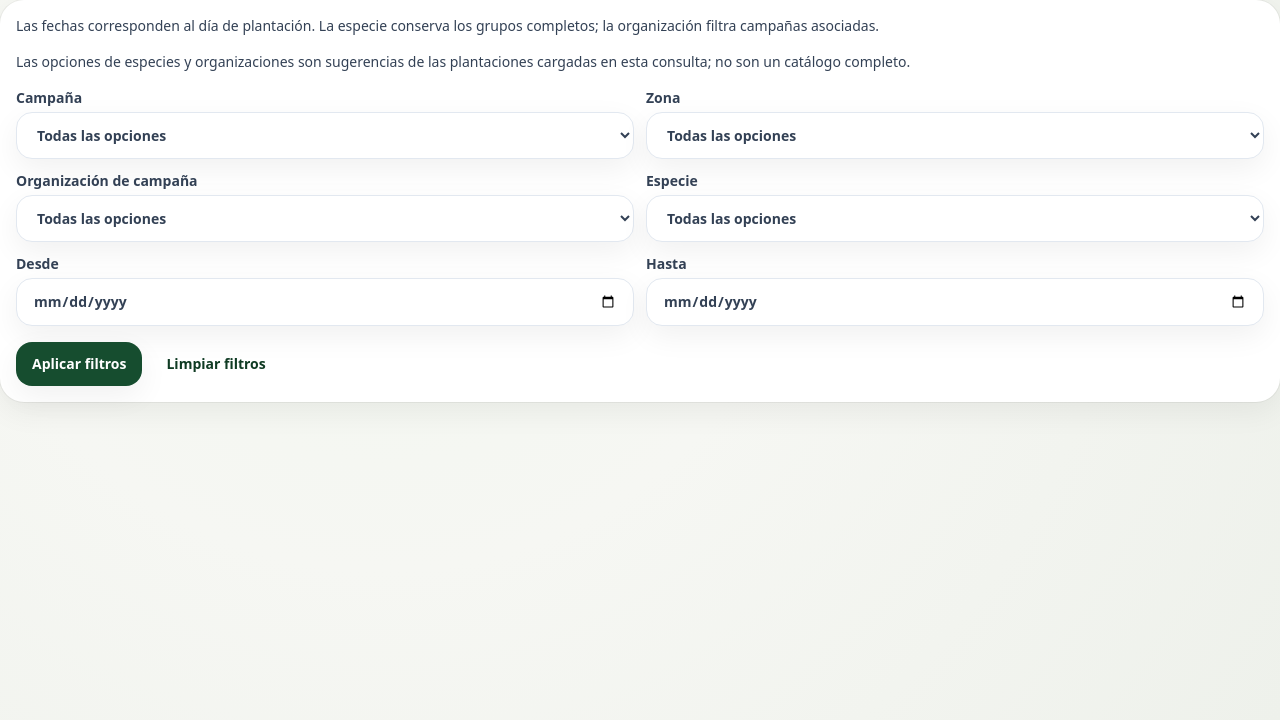
Scenario: filtros públicos por nombre › rechaza un intervalo invertido en español, enfoca el error y conserva la propuesta al corregirlo
Select "Queñua" in the dropdown labelled "Especie". click: (955, 218)
box: 646,195 -> 1264,242
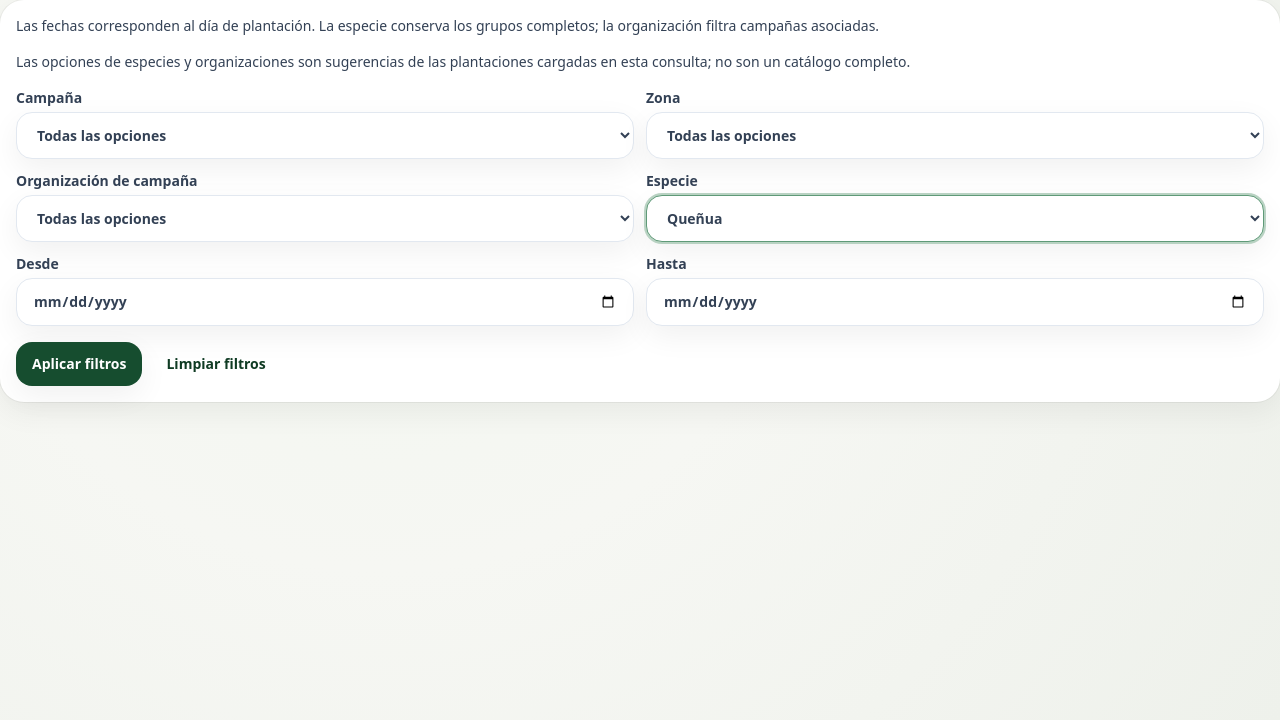
Type "2026-10-16" into the date field labelled "Desde". click: (325, 302)
box: 16,278 -> 634,326
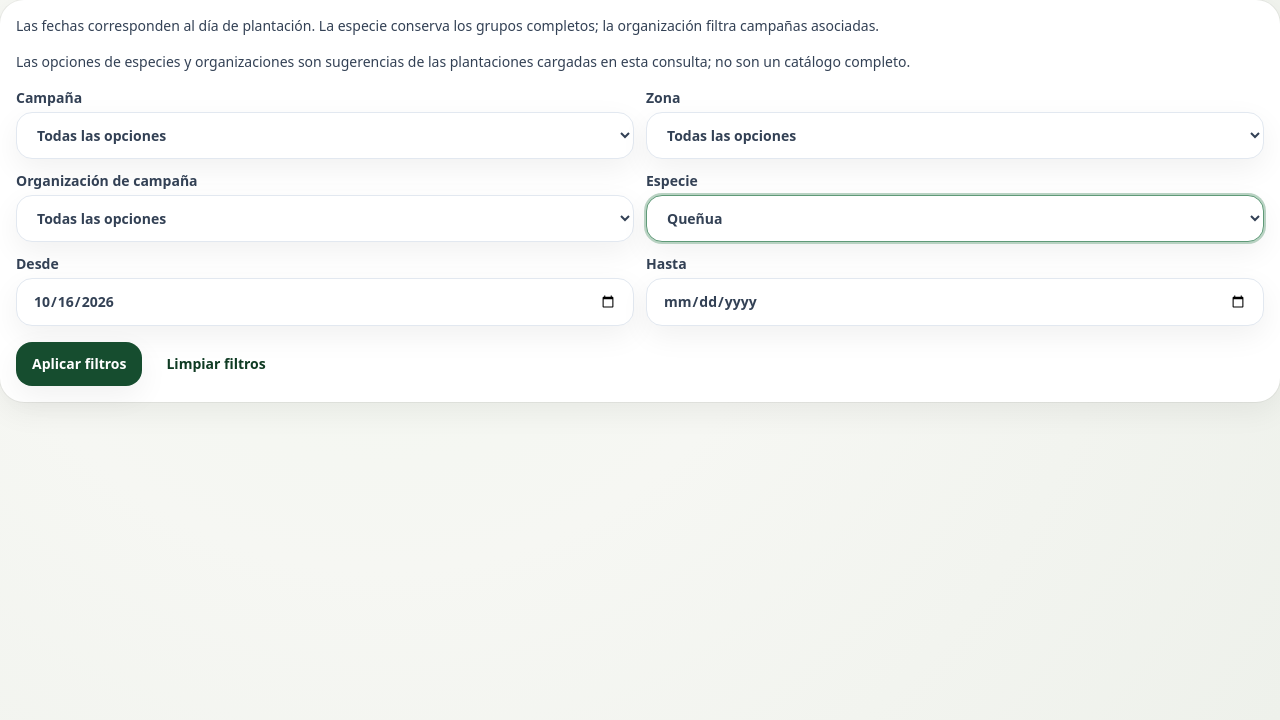
Type "2026-10-15" into the date field labelled "Hasta". click: (955, 302)
box: 646,278 -> 1264,326
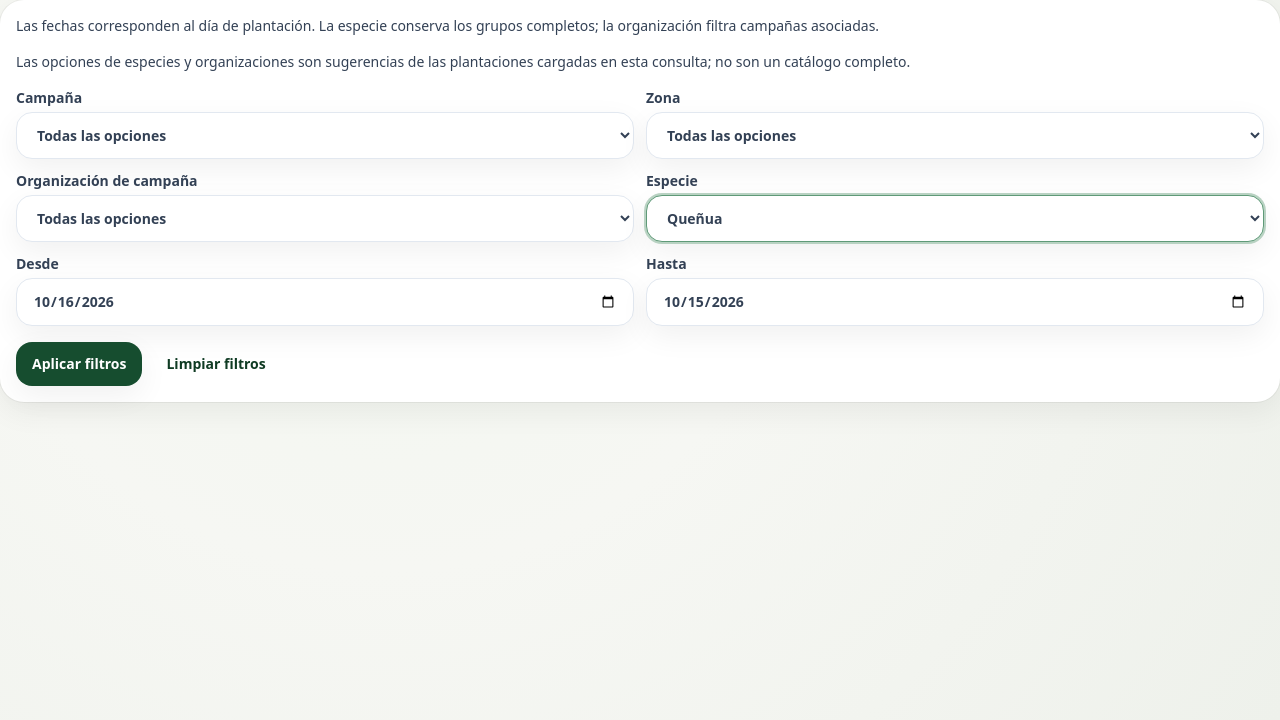
Click the button "Aplicar filtros". click: (79, 364)
box: 16,342 -> 142,386
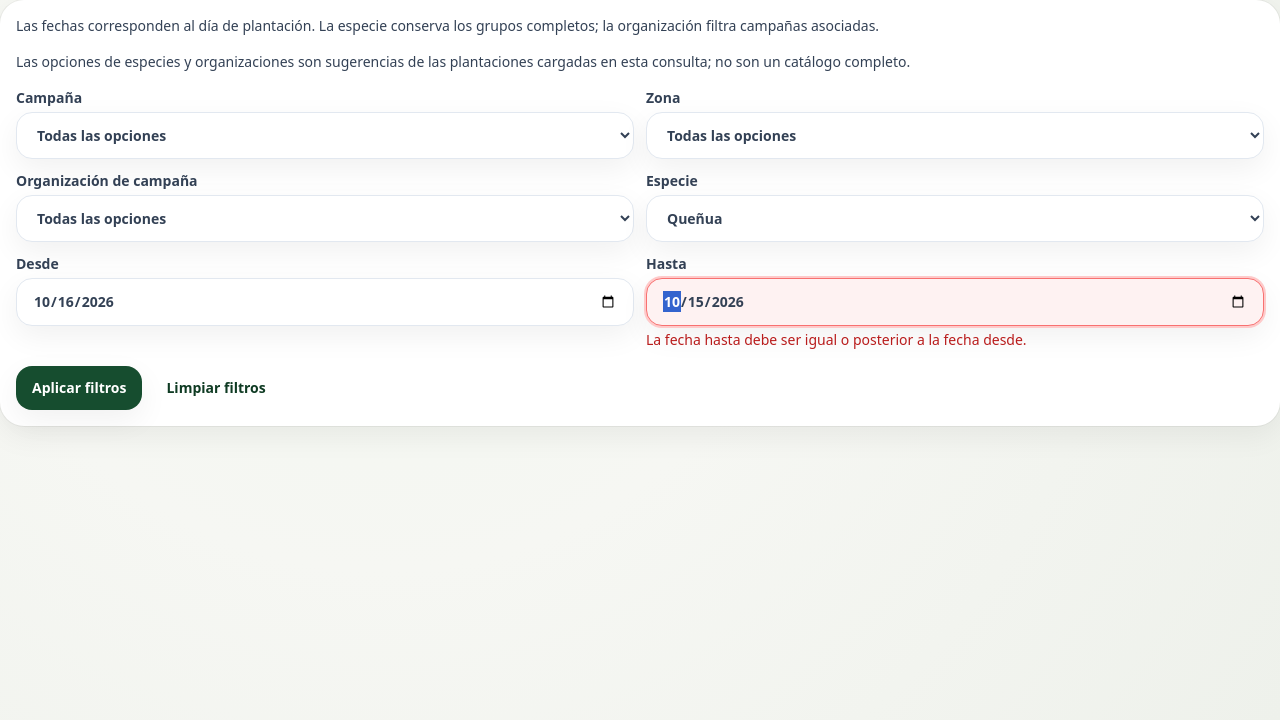
Check: the message reads "La fecha hasta debe ser igual o posterior a la fecha desde.", box 646,330 -> 1027,349
Type "2026-10-16" into the date field labelled "Hasta". click: (955, 302)
box: 646,278 -> 1264,326
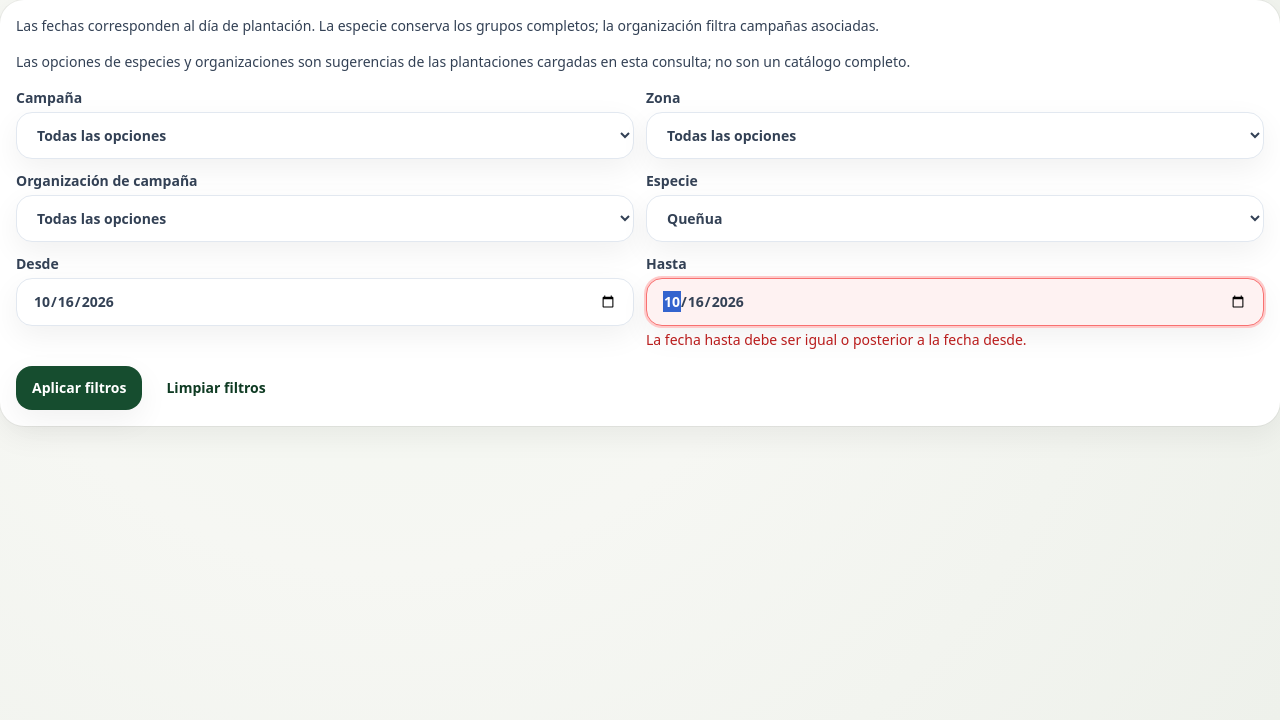
Click the button "Aplicar filtros". click: (79, 388)
box: 16,366 -> 142,410
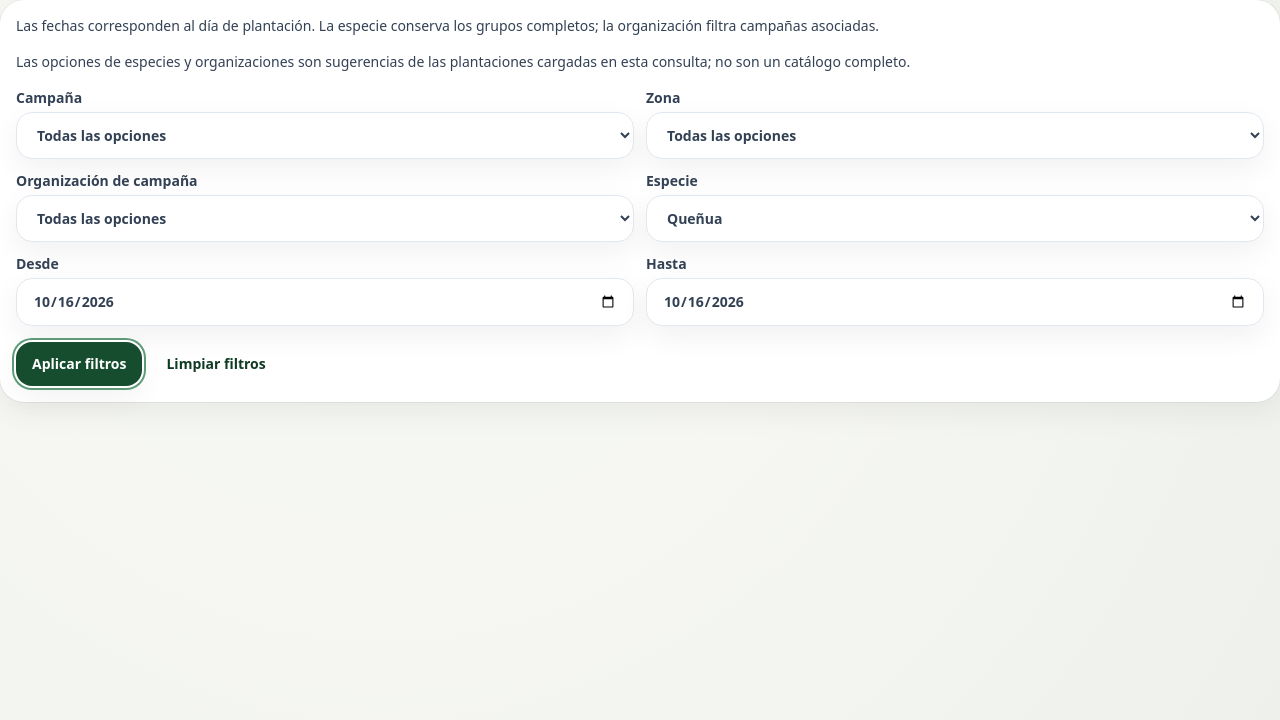
Check: the message "La fecha hasta debe ser igual o posterior a la fecha desde." is gone
